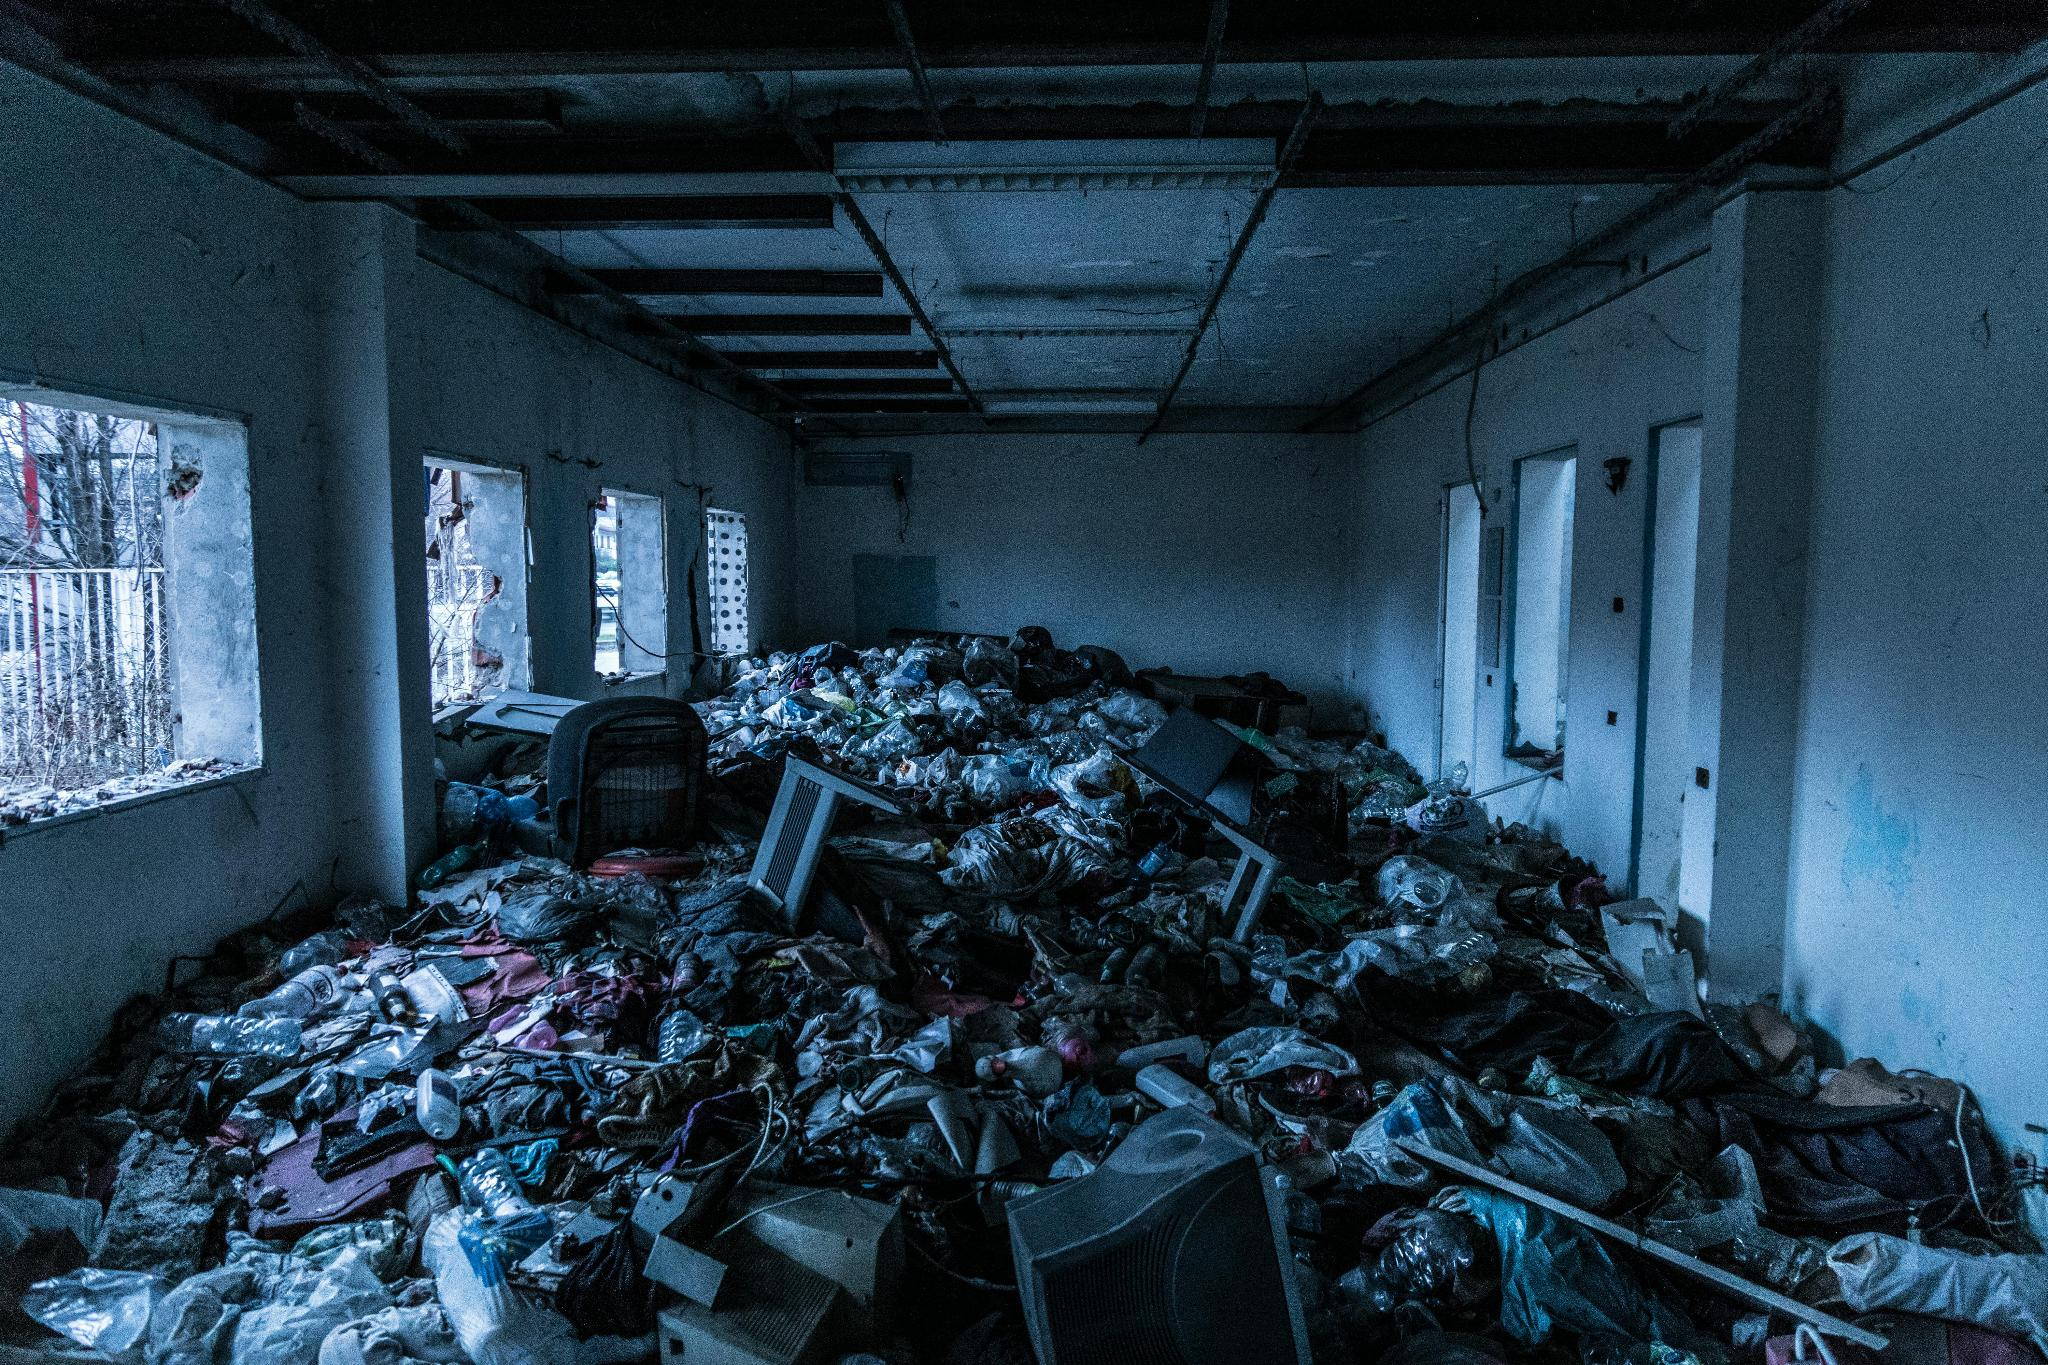Trash: (33, 515, 2048, 1365)
